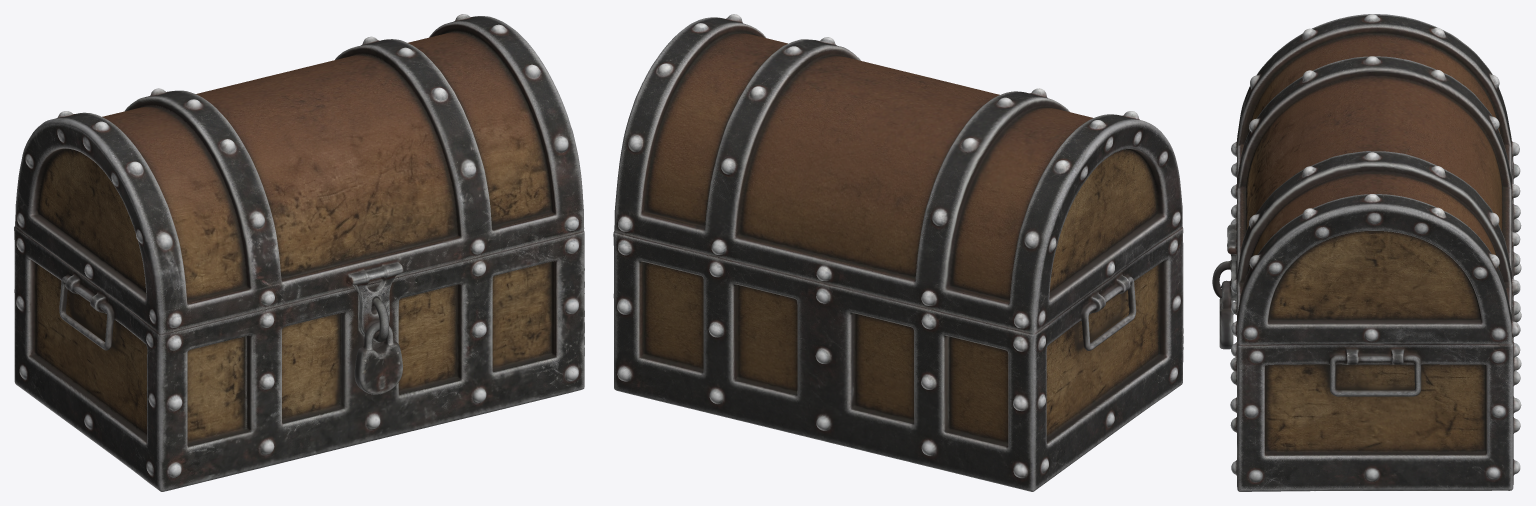
File: TreasuryChest.glb
3 views of the same model, side by side, from view 1: azimuth 30°, elevation 25°; view 2: azimuth 150°, elevation 25°; view 3: azimuth 270°, elevation 25° (orthographic). The views are drawn at different scales.
Bounding box in the file's own units: 1.9 × 1.31 × 1.26.
1 material, 1 textured.
